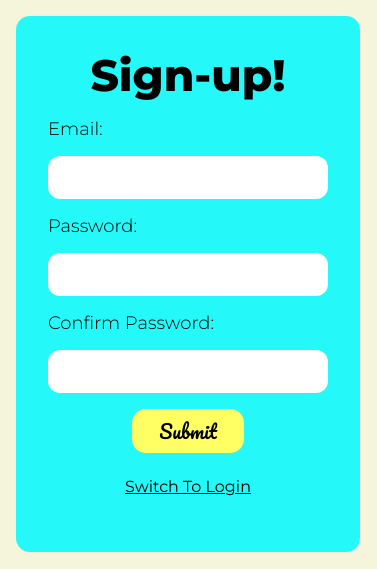
Test: Tests for LandingPage › should have a button that says 'Switch To Login'
Click the button "Switch To Login" at {"x": 188, "y": 486}, box [90,469,286,504]
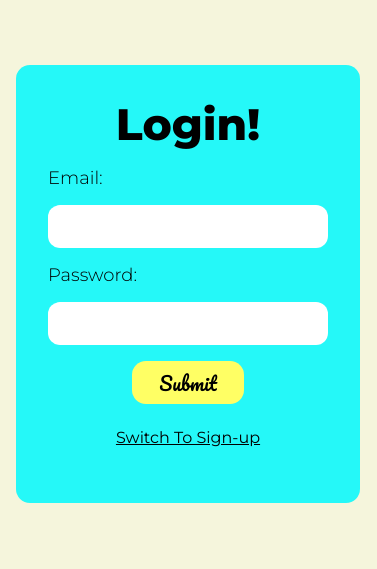
expect the heading named "Sign-up!" reads "Login!": met, box [116,97,260,151]
expect the button named "Switch To Login" reads "Switch To Sign-up": met, box [90,420,286,455]
